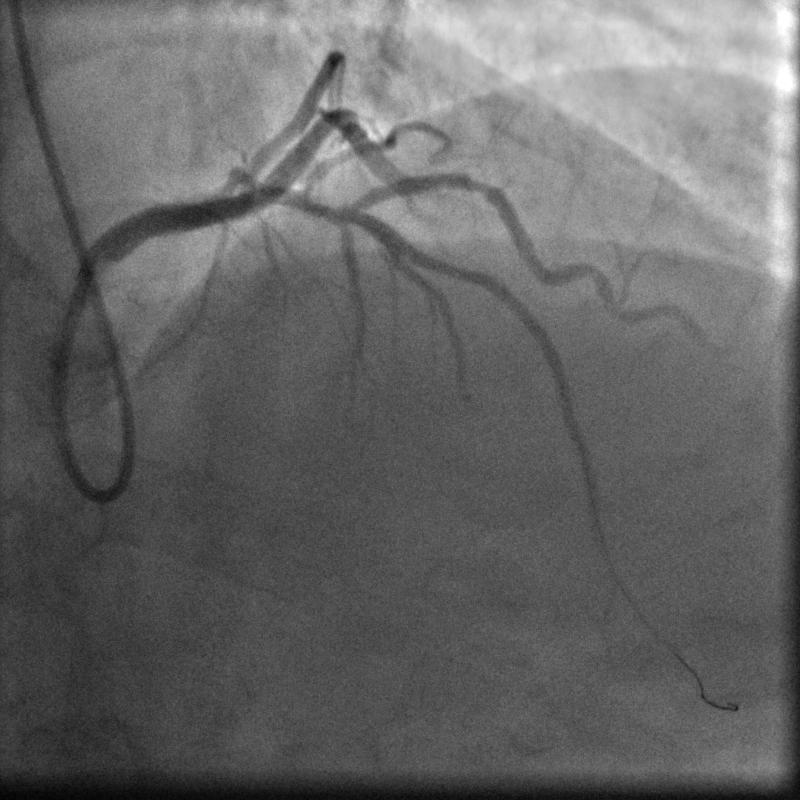Stenosis: (459, 165, 500, 207)
